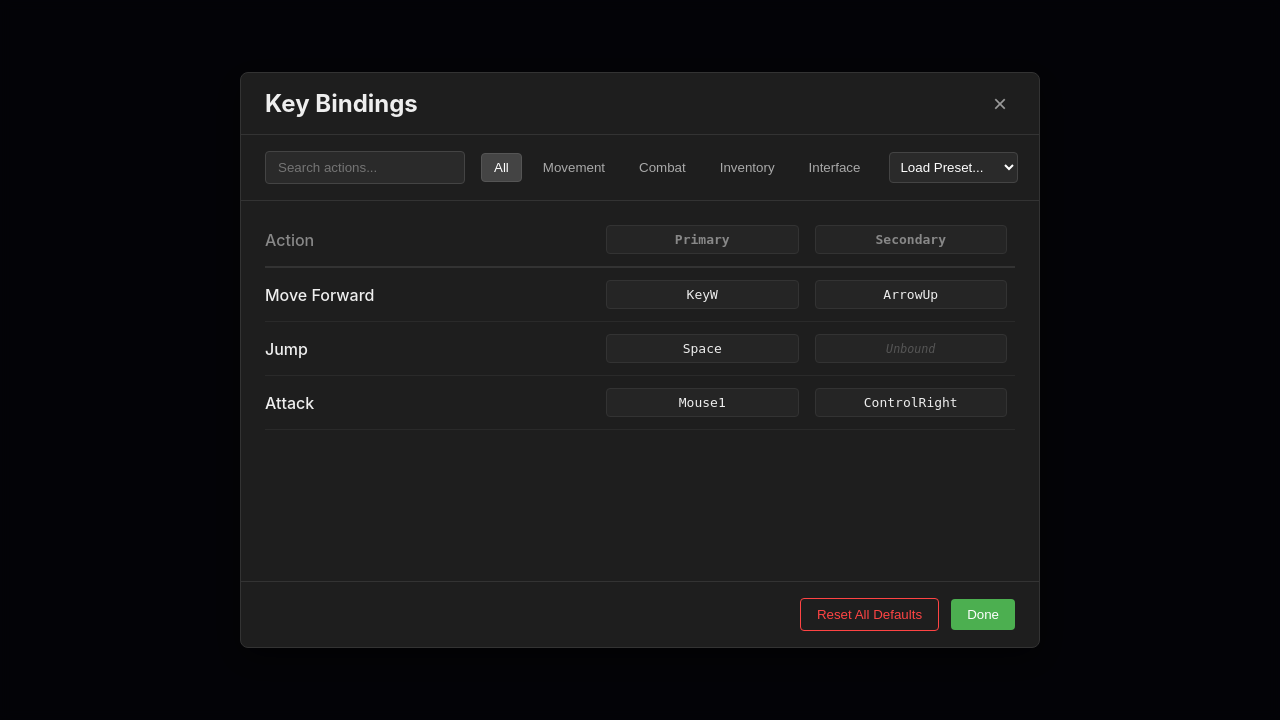
Test: KeybindingEditor › filters by category
Click the button "Combat" at x=662, y=168, box [626,153,699,182]
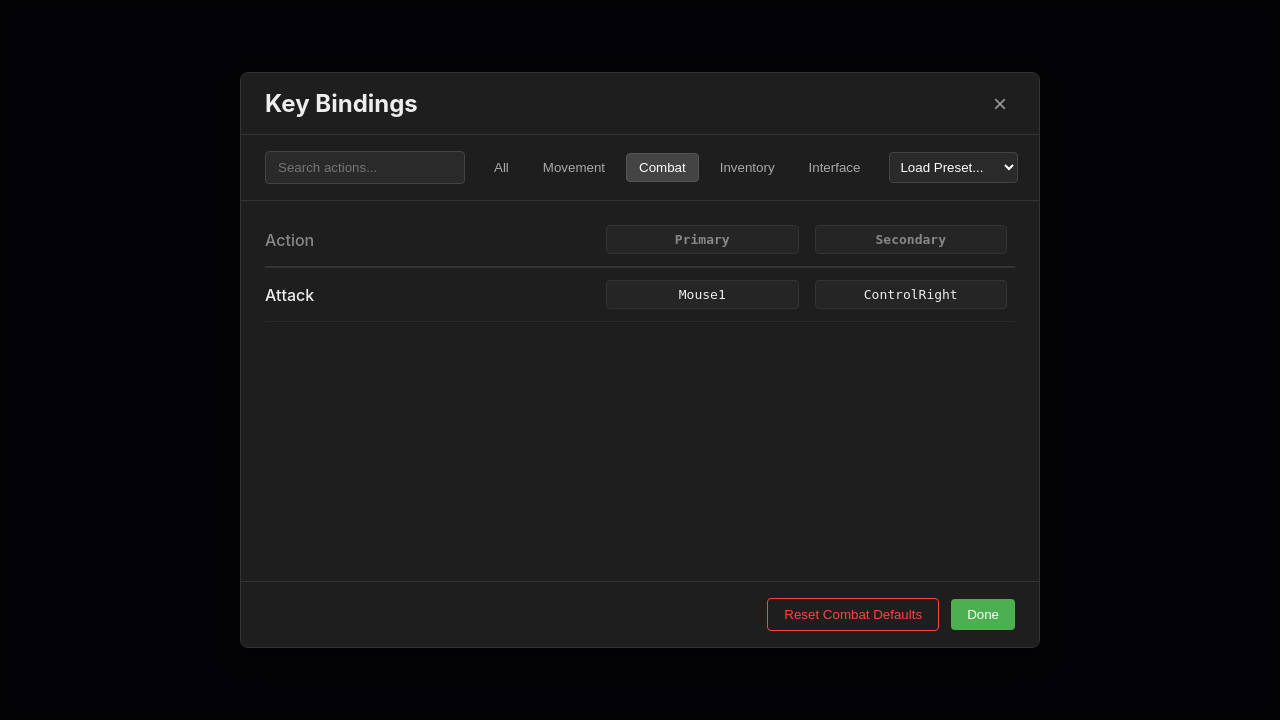
Expected: the text "Attack" is shown, [265,284,314,304]
Expected: the text "Move Forward" is gone
